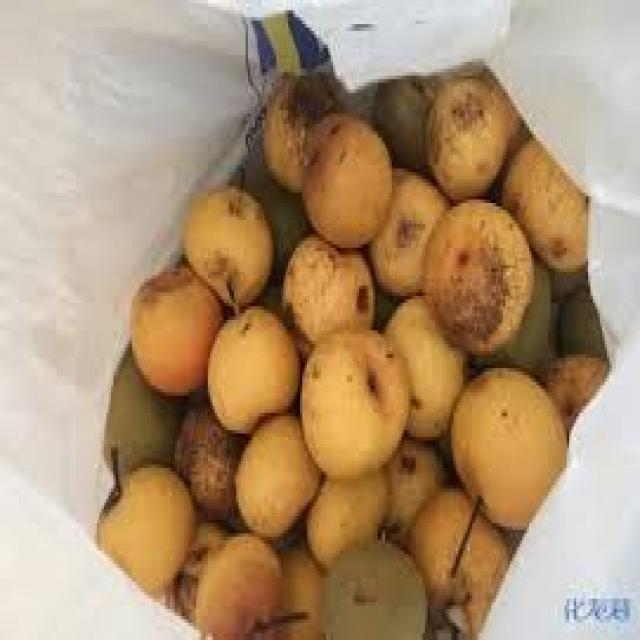organic waste: (448, 362, 566, 526), (418, 189, 531, 351), (404, 478, 508, 637), (298, 323, 406, 475), (94, 444, 194, 599), (498, 127, 588, 272), (378, 289, 463, 440), (298, 110, 392, 241), (279, 230, 373, 358), (128, 265, 225, 389), (231, 410, 319, 540), (260, 65, 349, 193), (321, 526, 423, 636), (182, 182, 271, 306), (206, 306, 295, 430), (364, 165, 446, 293), (99, 337, 177, 465), (465, 251, 550, 365), (422, 72, 500, 193), (196, 530, 283, 636), (302, 472, 392, 572), (170, 399, 239, 516), (383, 430, 451, 540), (160, 513, 227, 616), (238, 165, 302, 272), (373, 72, 437, 165), (271, 540, 326, 637), (543, 351, 605, 423), (555, 275, 605, 358), (489, 72, 522, 145), (371, 275, 394, 327)
